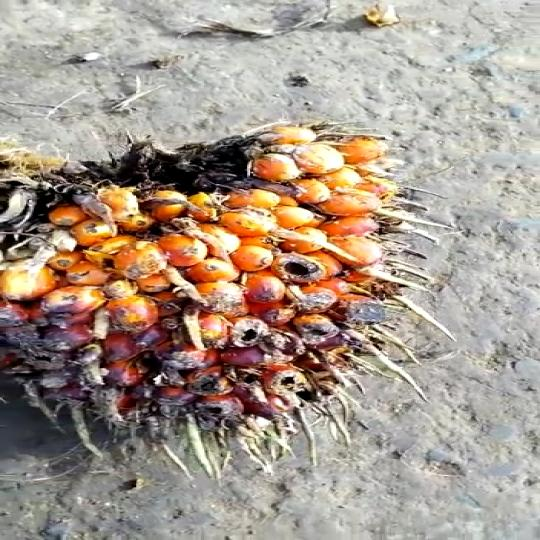masak: (0, 120, 414, 463)
